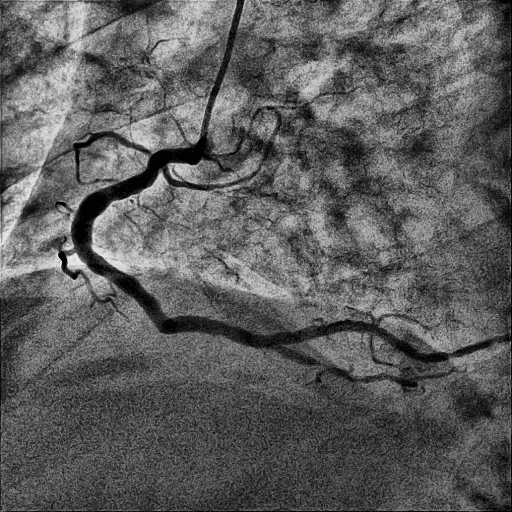pborca: (277, 321, 500, 363)
pda: (274, 345, 419, 387)
rca: (71, 139, 279, 350)
